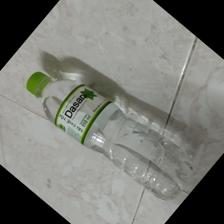Dasani: (23, 68, 199, 198)
